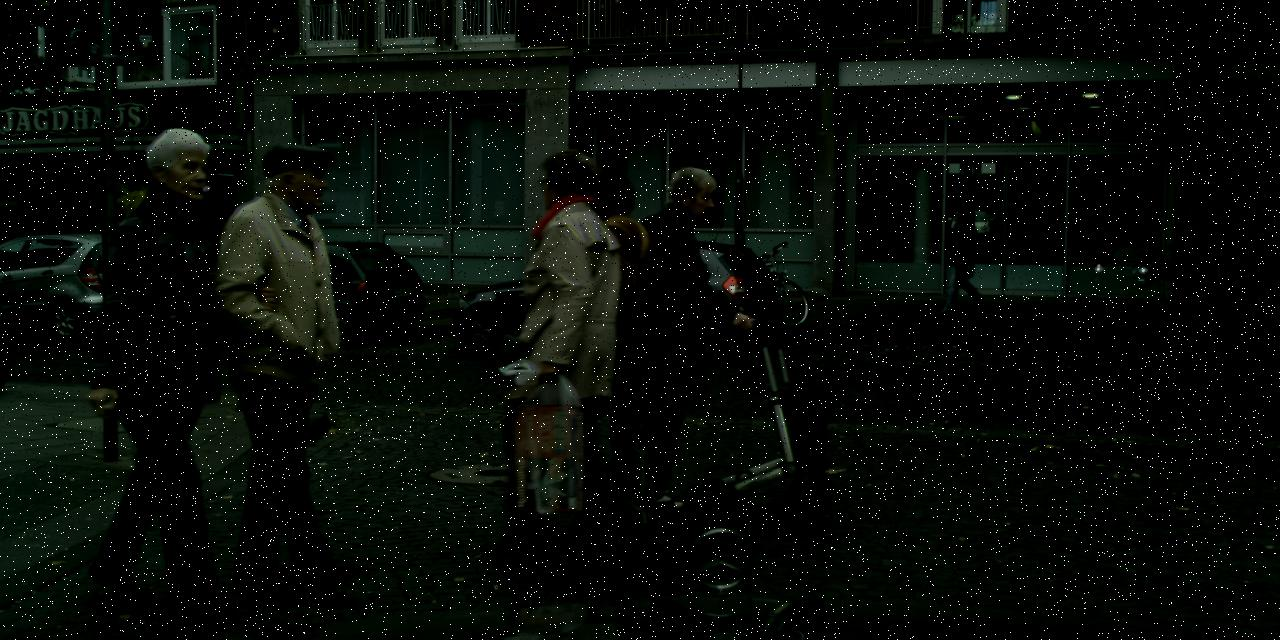ped: (70, 129, 265, 606), (204, 144, 383, 582), (478, 148, 646, 558), (531, 164, 683, 536), (598, 166, 736, 504), (1184, 184, 1279, 450), (942, 205, 986, 314)
